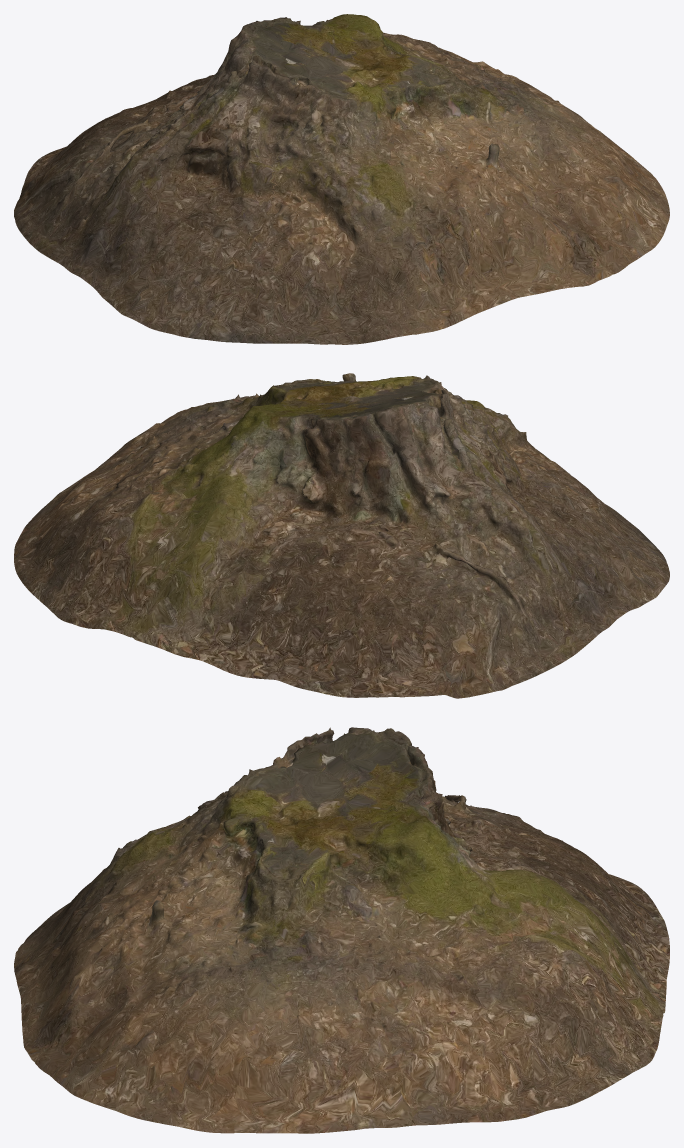
The model's file is tree-stump-02.glb.
3 renders of one model, top to bottom at view 1: azimuth 30°, elevation 25°; view 2: azimuth 150°, elevation 25°; view 3: azimuth 270°, elevation 25°, orthographic. The views are drawn at different scales.
Parts seen in each view (by area): view 1: tree_stump_02; view 2: tree_stump_02; view 3: tree_stump_02.
Boxes of the visible parts, x1,y1,x2,y2 form: tree_stump_02: [14, 14, 669, 344]; tree_stump_02: [14, 373, 669, 698]; tree_stump_02: [14, 727, 669, 1133].
Size of the model in its own units: 1.52 by 0.522 by 1.39.
1 material, 1 textured.
